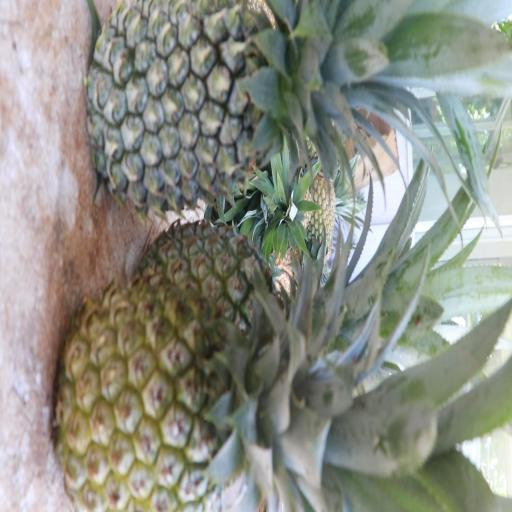------------------------------: (52, 269, 384, 508), (136, 210, 336, 370)
